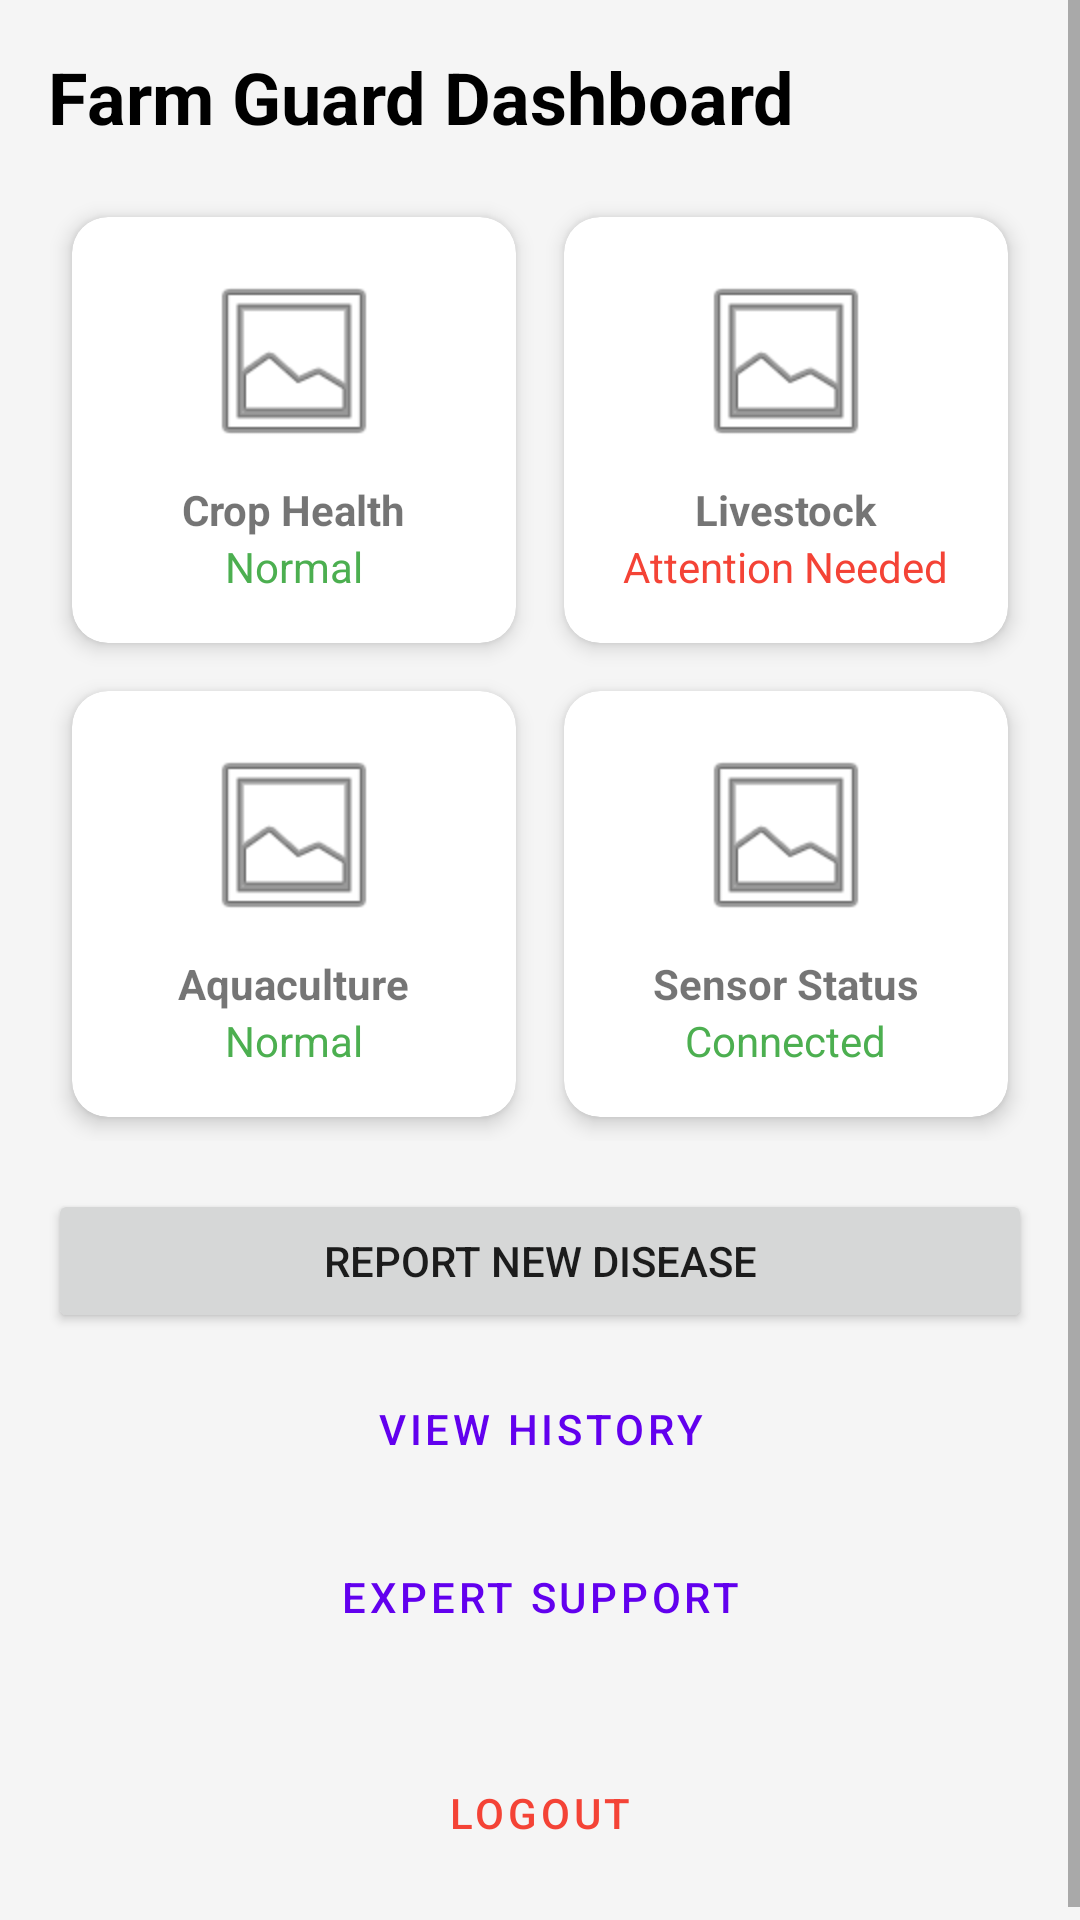

Where to tap for icons on this 1080 x 1920 app screen, as [x,y]:
gallery: [294,361], [786,361], [294,835], [786,835]
